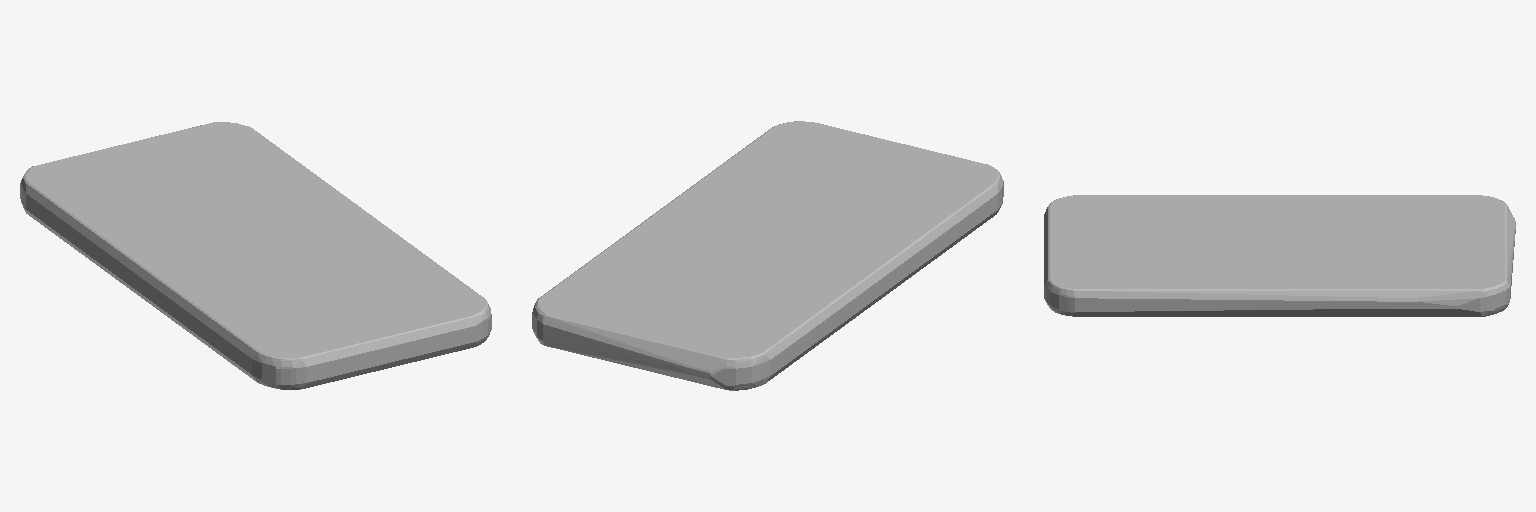
robot.urdf — root:
<robot name="root">
  <link name="link_coacd_convex_piece_0">
    <inertial>
      <origin xyz="0 0 0" rpy="0 0 0"/>
      <inertia ixx="4.54E-02" ixy="8.61E-06" ixz="-1.79E-06" iyy="1.14E-02" iyz="-1.01E-06" izz="5.64E-02"/>
    </inertial>
    <visual>
      <origin xyz="0 0 0" rpy="0 0 0"/>
      <geometry>
        <mesh filename="coacd_convex_piece_0.obj" scale="1.0000E+00 1.0000E+00 1.0000E+00"/>
      </geometry>
      <material name="">
        <color rgba="7.50E-01 7.50E-01 7.50E-01 1"/>
      </material>
    </visual>
    <collision>
      <origin xyz="0 0 0" rpy="0 0 0"/>
      <geometry>
        <mesh filename="coacd_convex_piece_0.obj" scale="1.0000E+00 1.0000E+00 1.0000E+00"/>
      </geometry>
    </collision>
  </link>
</robot>

--- Render facts (derived) ---
3 views of the same robot in one strip: view 1: azimuth 30°, elevation 25°; view 2: azimuth 150°, elevation 25°; view 3: azimuth 270°, elevation 25° (orthographic).
Model root with 1 links and 0 joints (none), rooted at link_coacd_convex_piece_0, posed all joints at 0.
Visible links, largest first — view 1: link_coacd_convex_piece_0; view 2: link_coacd_convex_piece_0; view 3: link_coacd_convex_piece_0.
Link boxes in pixels (x1,y1,x2,y2): link_coacd_convex_piece_0: [20, 122, 491, 389]; link_coacd_convex_piece_0: [532, 121, 1003, 390]; link_coacd_convex_piece_0: [1044, 195, 1515, 316].
Bounding box of the posed robot: 0.916 × 1.83 × 0.1195 m (x, y, z).
Meshes: 1 distinct files referenced, 1 mesh visuals loaded (1 OBJ).
